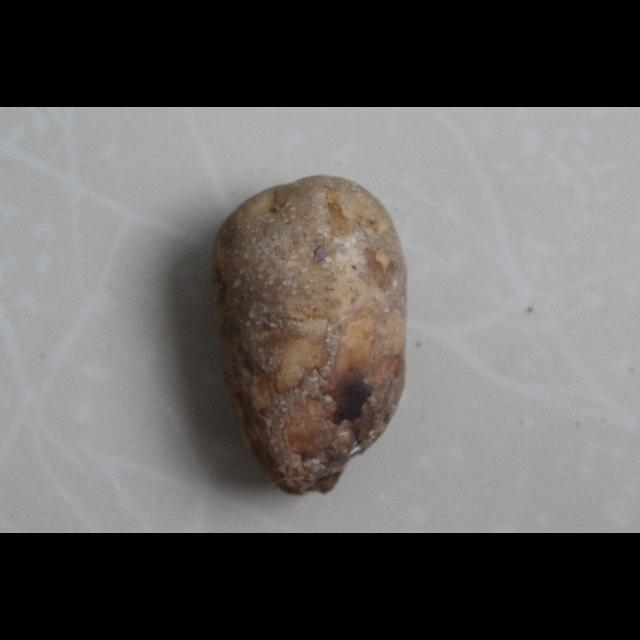Diseased-fungal potato: (214, 170, 408, 502)
